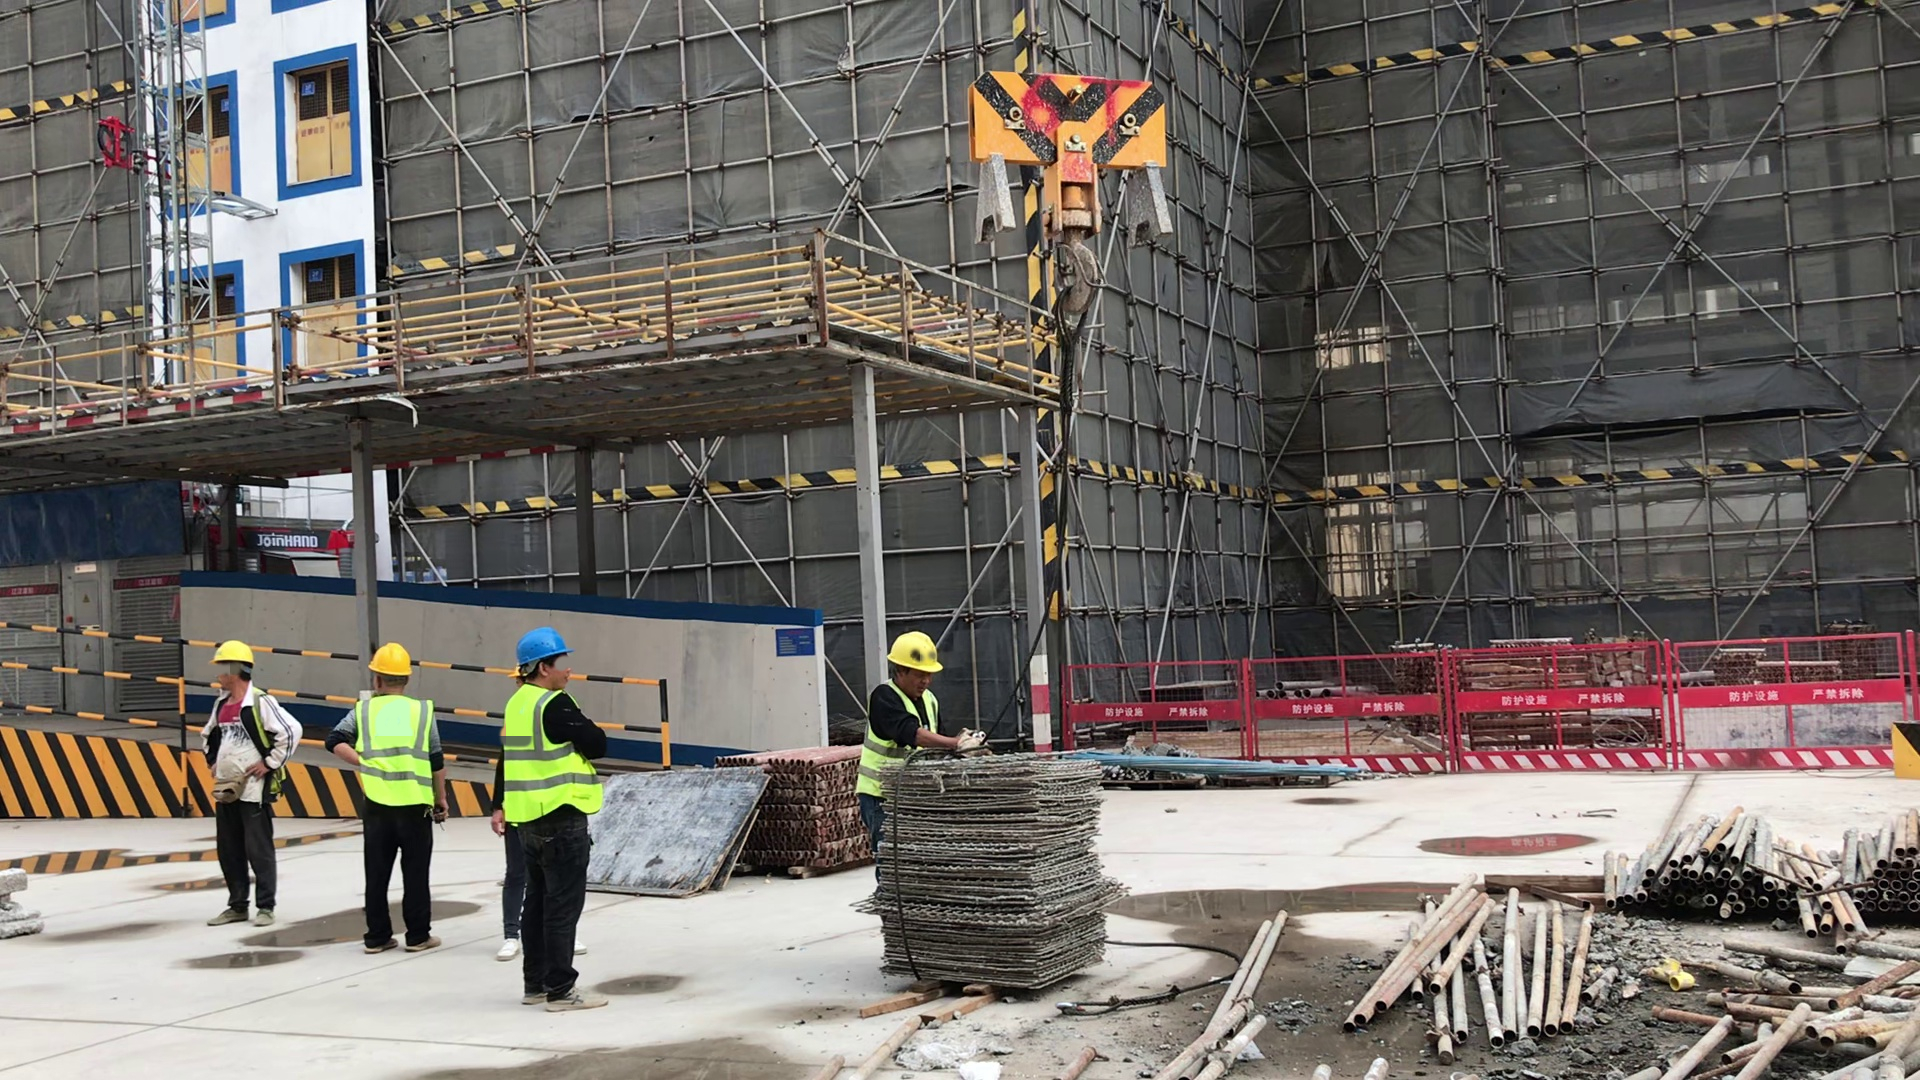fence: (1057, 644, 1920, 775)
helmet: (876, 624, 956, 678), (195, 622, 271, 675), (359, 638, 432, 682), (513, 624, 579, 666)
hook: (935, 35, 1183, 222)
person: (508, 628, 633, 1006), (178, 639, 312, 928), (347, 633, 464, 951), (841, 606, 971, 771)
scaffold: (717, 740, 862, 878)
vest: (502, 683, 602, 812), (853, 678, 954, 803), (351, 689, 436, 804)
